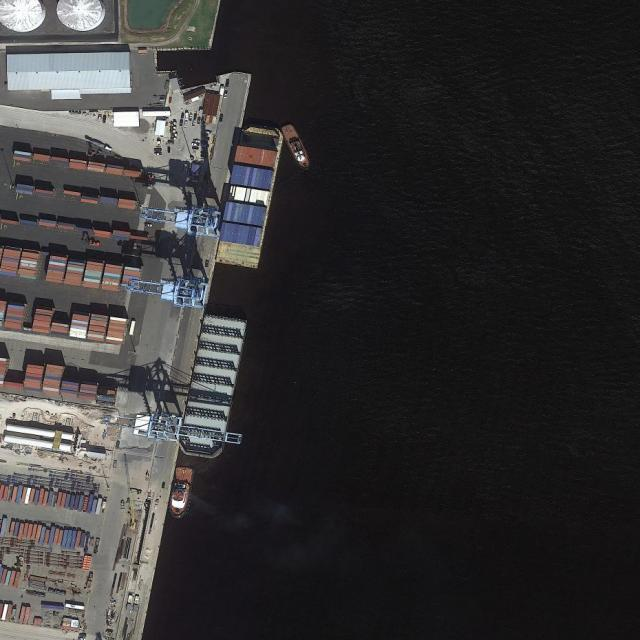Container Ship: (210, 117, 287, 273), (173, 309, 249, 463)
Hovercraft: (166, 462, 196, 517)
